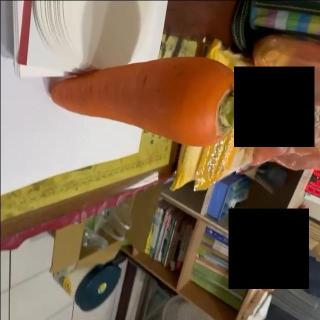carrot: (49, 56, 258, 146)
